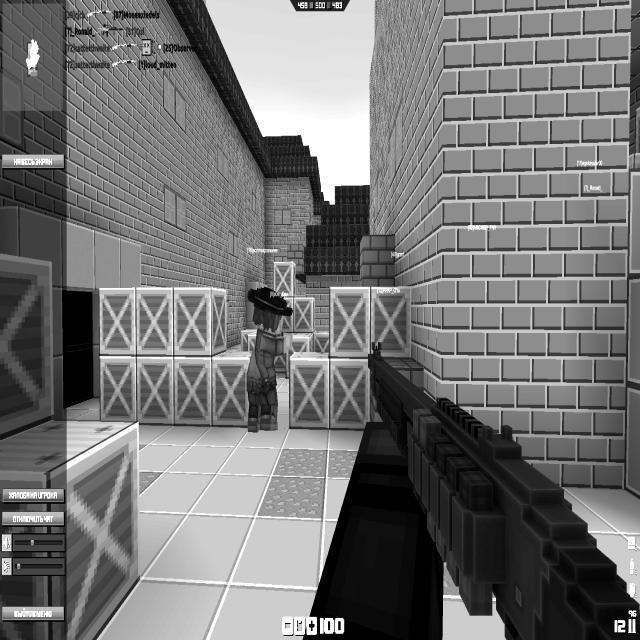Head: (247, 286, 293, 334)
Player: (245, 285, 292, 432)
